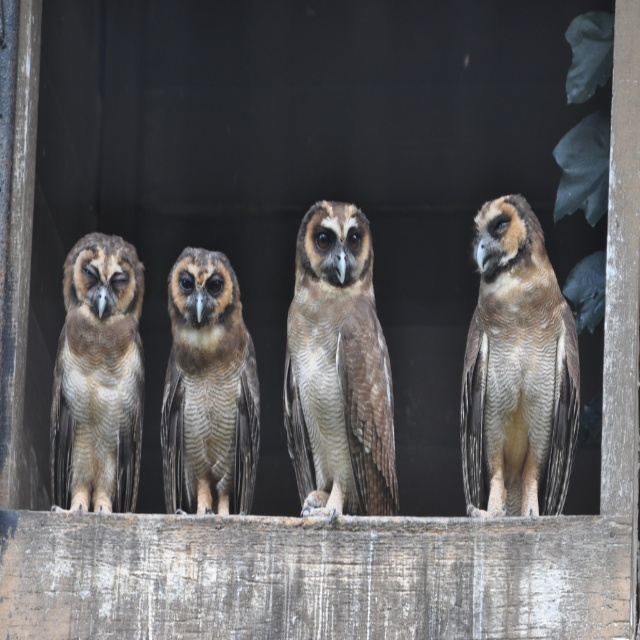Owl: (460, 193, 578, 516), (283, 193, 401, 515), (48, 228, 150, 519), (156, 246, 262, 520)
